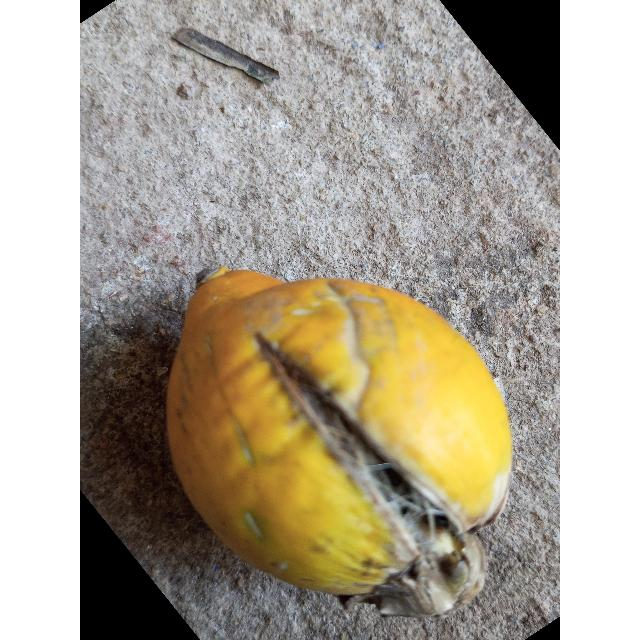damaged: (165, 268, 513, 619)
